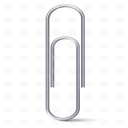Metal: (33, 0, 95, 125)
